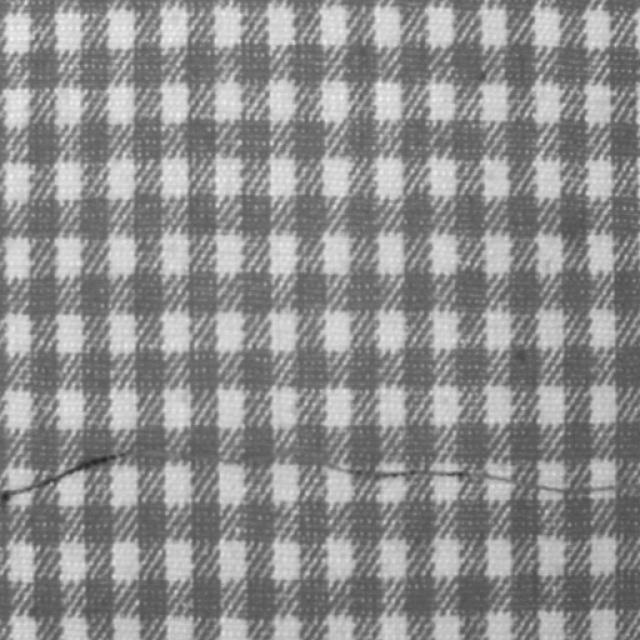Foreign-Body-Defect: (0, 451, 130, 505), (330, 465, 519, 494), (538, 480, 615, 500)
